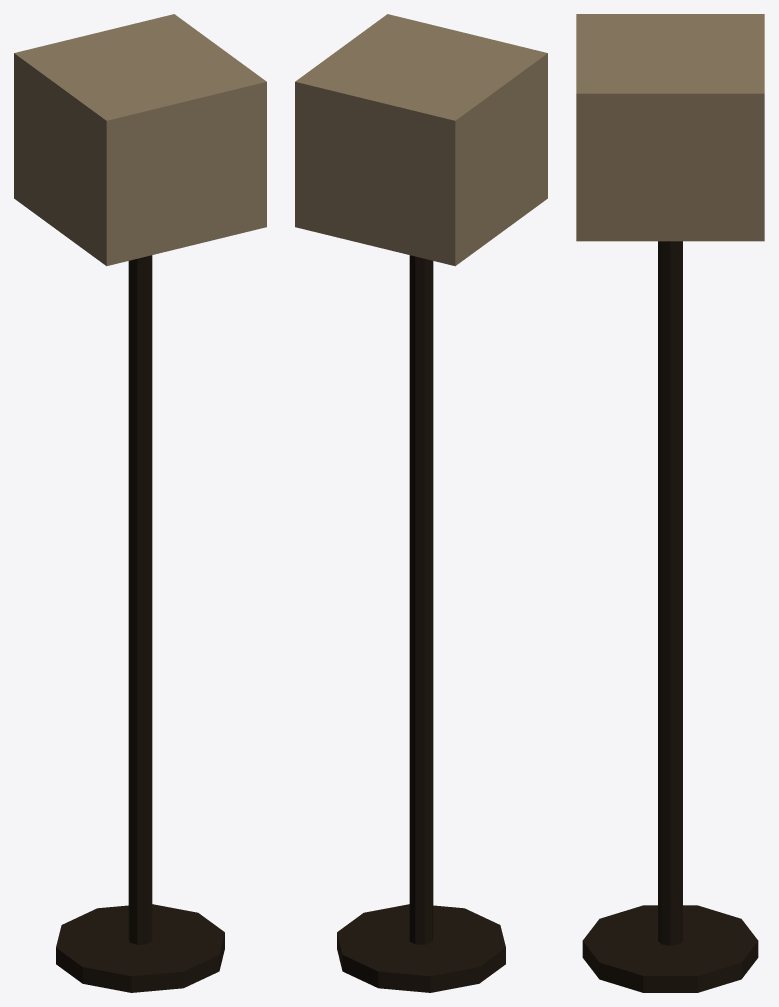
Rendered from welt_stehlampe.glb.
3 views of the same model, side by side, from view 1: azimuth 30°, elevation 25°; view 2: azimuth 150°, elevation 25°; view 3: azimuth 270°, elevation 25° (orthographic).
Visible parts, largest first — view 1: schirm, stange, fuss; view 2: schirm, stange, fuss; view 3: schirm, stange, fuss.
Boxes of the visible parts, x1,y1,x2,y2 form: schirm: [14, 14, 266, 266]; stange: [128, 255, 152, 944]; fuss: [56, 904, 224, 992]; schirm: [295, 14, 547, 266]; stange: [409, 255, 433, 944]; fuss: [337, 904, 505, 992]; schirm: [576, 14, 764, 241]; stange: [658, 241, 682, 945]; fuss: [582, 905, 758, 992].
Size of the model in its own units: 0.3 by 1.59 by 0.3.
